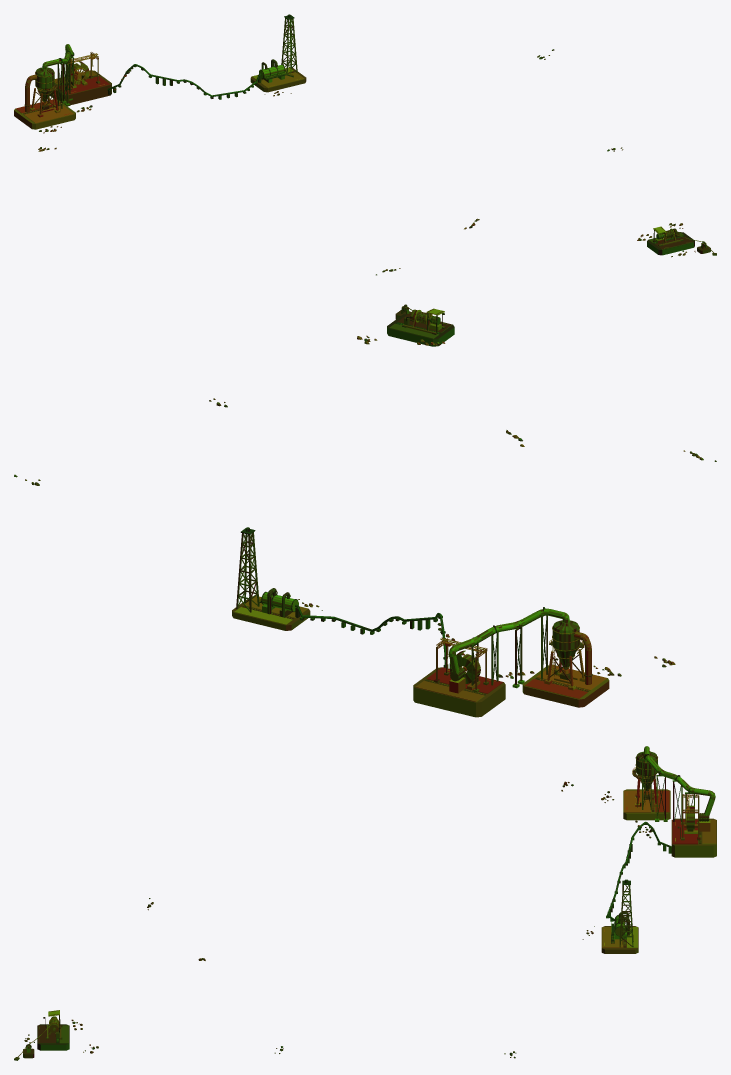
File: rimworks.glb
The picture shows the model from 3 angles, top to bottom: view 1: azimuth 30°, elevation 25°; view 2: azimuth 150°, elevation 25°; view 3: azimuth 270°, elevation 25°; orthographic projection. The views are drawn at different scales.
Visible parts, largest first — view 1: rimworks_static_geometry; view 2: rimworks_static_geometry; view 3: rimworks_static_geometry.
Part boxes in pixels (bbox=[...]): rimworks_static_geometry: bbox=[14, 14, 716, 275]; rimworks_static_geometry: bbox=[14, 304, 716, 717]; rimworks_static_geometry: bbox=[14, 746, 716, 1060].
Bounding box in the file's own units: 314 × 51.93 × 341.
